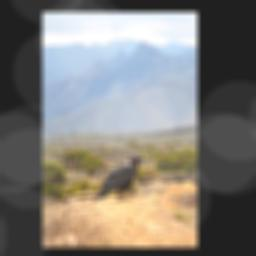Crow: (89, 153, 145, 203)
